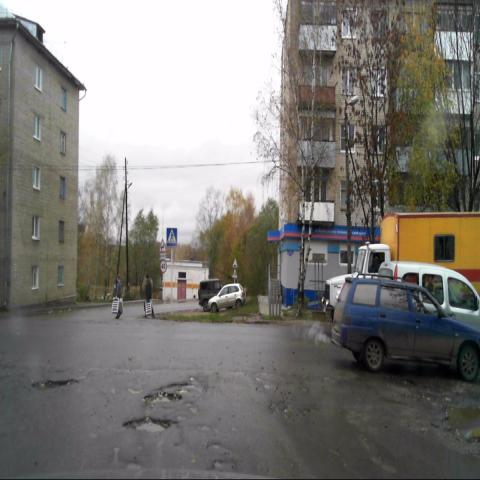1_12: (158, 237, 167, 252)
1_17: (232, 256, 239, 268)
1_23: (232, 267, 238, 279)
3_24: (159, 259, 168, 273)
5_19_1: (166, 227, 178, 247)
